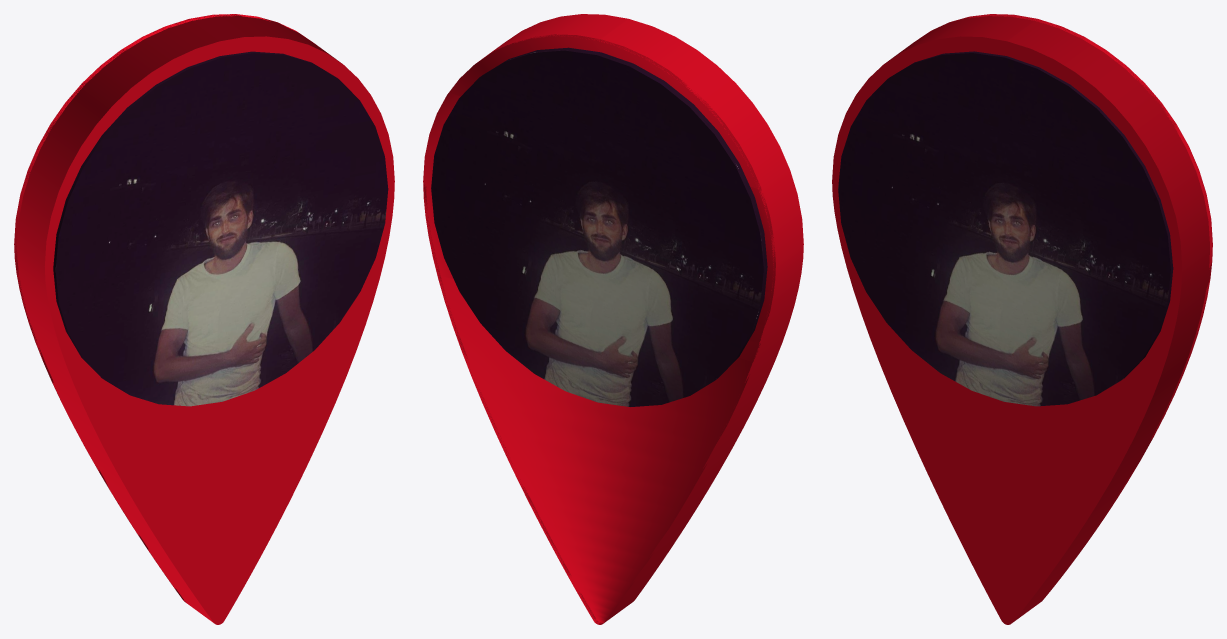
The model's file is val.glb.
3 views of the same model, side by side, from view 1: azimuth 30°, elevation 25°; view 2: azimuth 150°, elevation 25°; view 3: azimuth 330°, elevation 25° (orthographic).
Parts seen in each view (by area): view 1: Cylindre, Curve; view 2: Cylindre, Curve; view 3: Cylindre, Curve.
Part boxes in pixels (bbox=[...]): Cylindre: bbox=[53, 51, 388, 406]; Curve: bbox=[14, 14, 394, 624]; Cylindre: bbox=[431, 47, 767, 406]; Curve: bbox=[423, 14, 803, 624]; Cylindre: bbox=[838, 51, 1173, 406]; Curve: bbox=[832, 14, 1212, 624].
Bounding box in the file's own units: 0.2766 × 0.4404 × 0.0478.
Materials: 2 (1 with a texture image).
